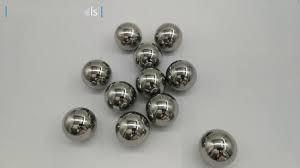steelball: (194, 124, 240, 167), (62, 102, 99, 144), (114, 109, 151, 149), (144, 92, 182, 128), (104, 77, 138, 112), (154, 19, 186, 56), (78, 55, 111, 88), (138, 63, 169, 95), (170, 57, 198, 92), (117, 19, 146, 51), (135, 41, 163, 67)
